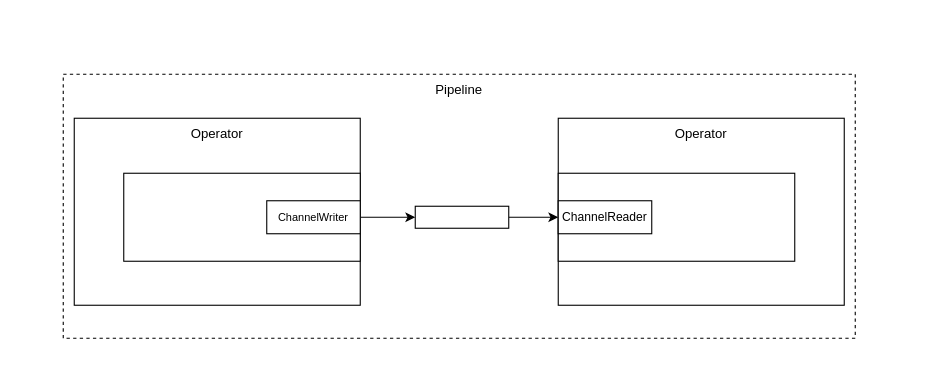
Image size: 928x389. Some labels were removed from this diagram. Here are the shapes that lost their labels. From the top down, the box of each, then its label:
(123, 172, 360, 261): OutputPortPlugin
(414, 205, 509, 228): channel
(557, 172, 795, 261): InputPortPlugin
